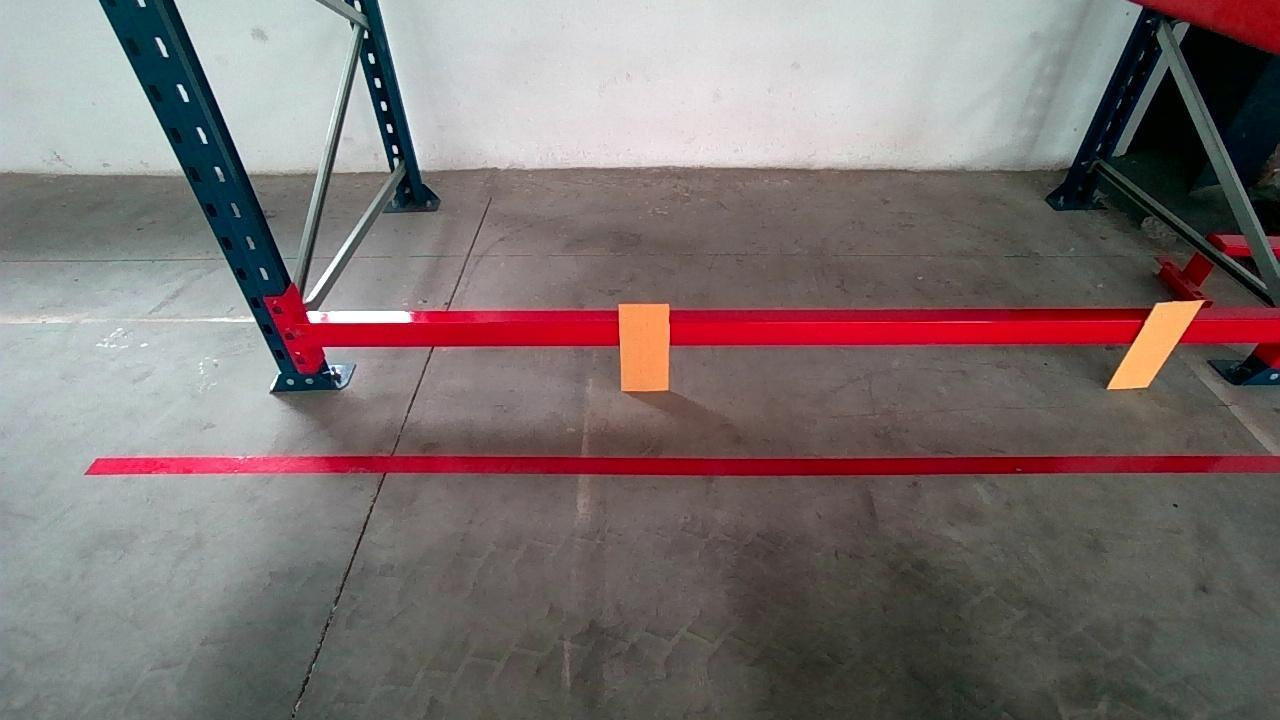h_rack: (302, 318, 1280, 346)
orange_strip: (1108, 302, 1203, 387), (620, 303, 671, 391)
red_line: (80, 453, 1280, 475)
